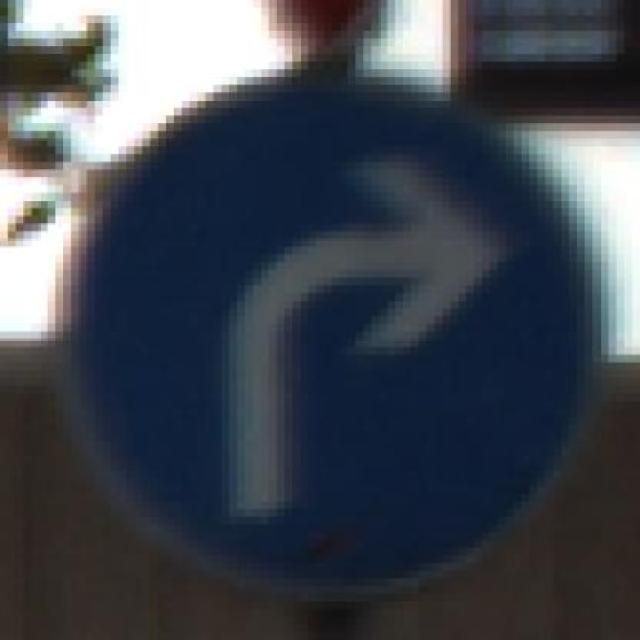Turn right ahead: (47, 69, 616, 609)
